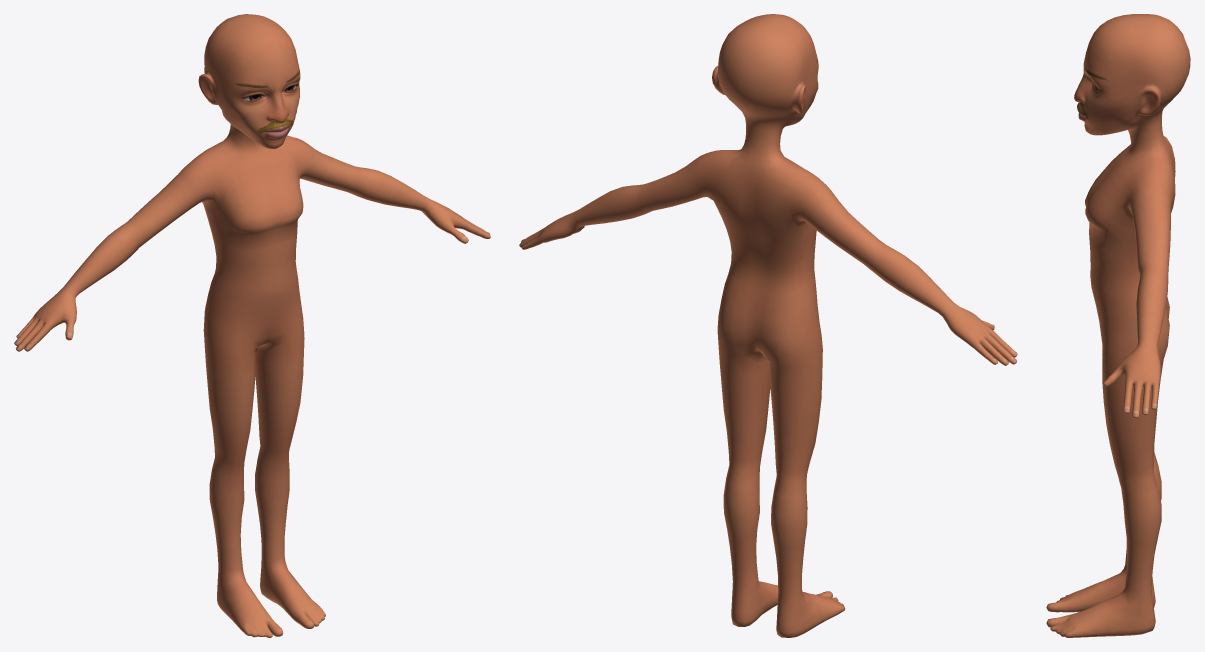
File: frame_0060.glb
3 views of the same model, side by side, from view 1: azimuth 30°, elevation 25°; view 2: azimuth 150°, elevation 25°; view 3: azimuth 270°, elevation 25° (orthographic). The views are drawn at different scales.
Visible parts, largest first — view 1: frame_0060_head_geo; view 2: frame_0060_head_geo; view 3: frame_0060_head_geo.
Boxes of the visible parts, x1,y1,x2,y2 form: frame_0060_head_geo: [14, 14, 490, 637]; frame_0060_head_geo: [519, 14, 1017, 637]; frame_0060_head_geo: [1046, 14, 1190, 637].
Bounding box in the file's own units: 1.28 × 1.5 × 0.3253.
3 materials, 3 textured.
